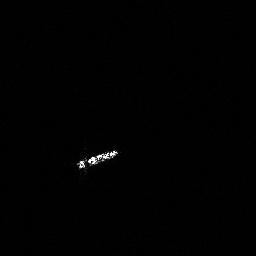ship: (72, 146, 121, 173)
